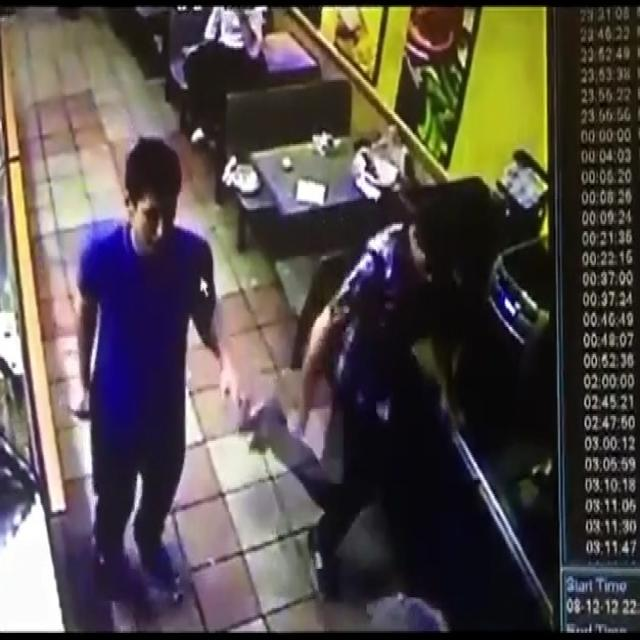fight: (77, 140, 465, 596)
